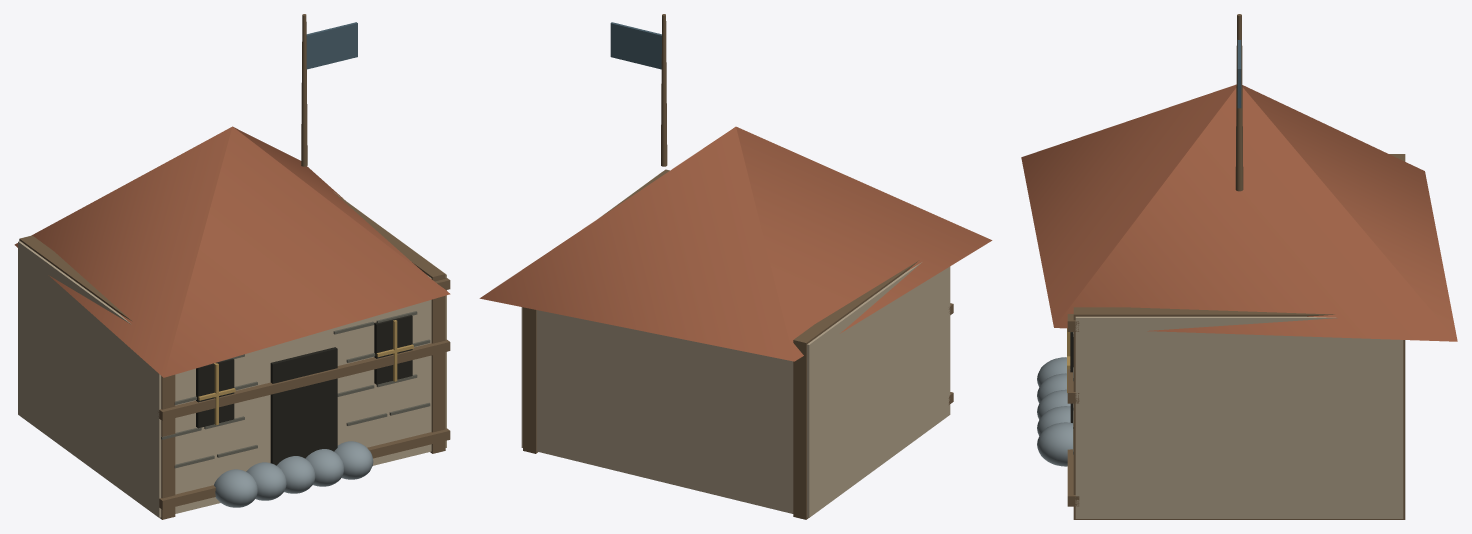
The model's file is b-mine-castilian.glb.
3 renders of one model, left to right at view 1: azimuth 30°, elevation 25°; view 2: azimuth 150°, elevation 25°; view 3: azimuth 270°, elevation 25°, orthographic. The views are drawn at different scales.
Visible parts, largest first — view 1: Structure; view 2: Structure; view 3: Structure.
Boxes of the visible parts, <box> form: Structure: <box>14,14,450,519</box>; Structure: <box>479,14,992,519</box>; Structure: <box>1021,14,1457,519</box>.
Bounding box in the file's own units: 4.53 × 5.33 × 4.53.
